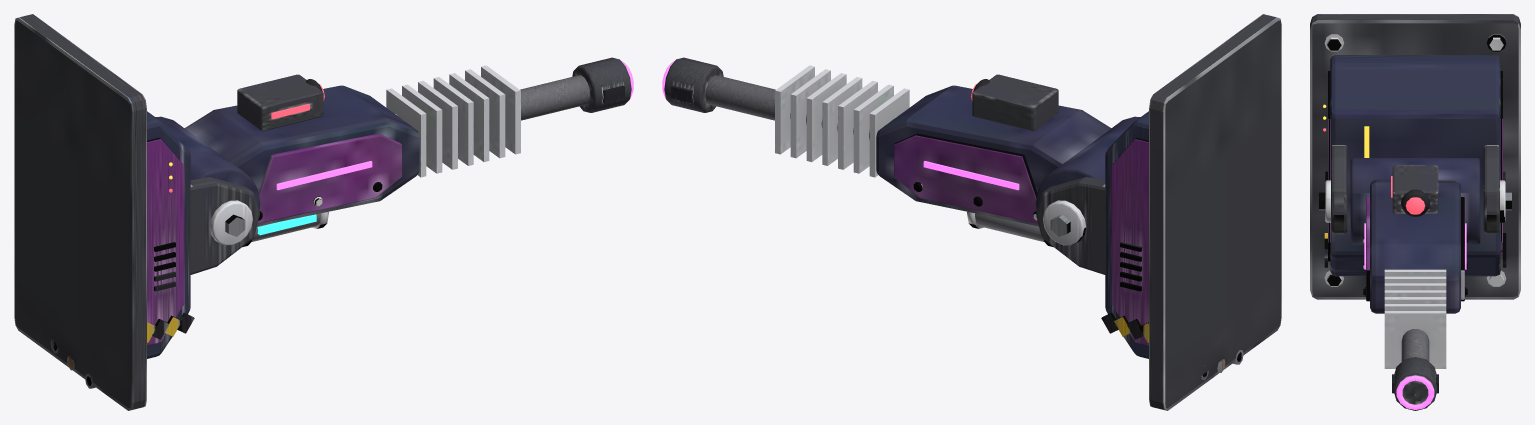
Rendered from wall_gun.glb.
3 renders of one model, left to right at view 1: azimuth 30°, elevation 25°; view 2: azimuth 150°, elevation 25°; view 3: azimuth 270°, elevation 25°, orthographic. The views are drawn at different scales.
Visible parts, largest first — view 1: body, gun_body, barrel_mesh, sensor_pod; view 2: body, gun_body, barrel_mesh, sensor_pod; view 3: body, gun_body, barrel_mesh, sensor_pod.
Part boxes in pixels (x1,y1,x2,y2): body: (14,14,259,410); gun_body: (155,85,419,247); barrel_mesh: (386,57,633,177); sensor_pod: (237,74,324,130); body: (1036,14,1281,410); gun_body: (876,85,1140,247); barrel_mesh: (662,57,909,177); sensor_pod: (971,74,1058,130); body: (1310,14,1520,299); gun_body: (1350,158,1480,313); barrel_mesh: (1384,269,1446,410); sensor_pod: (1391,165,1438,216).
Bounding box in the file's own units: 3.53 × 1.93 × 1.3.
Materials: 6 (1 with a texture image).
